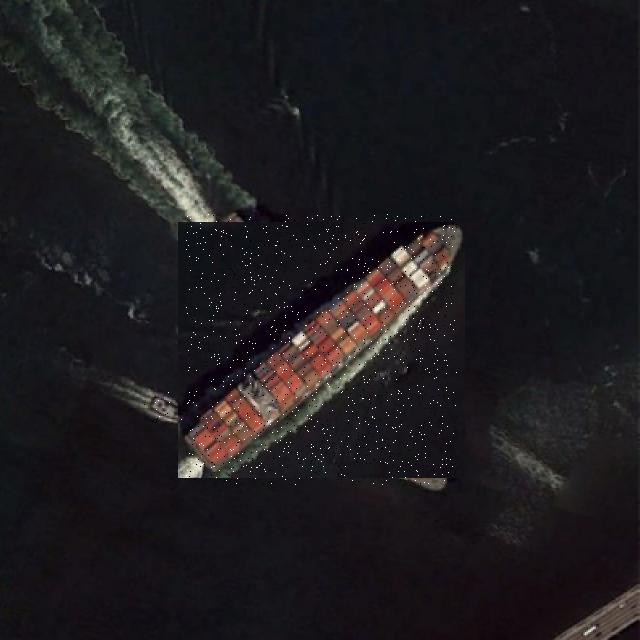boat: (186, 214, 457, 485), (143, 392, 188, 424)
